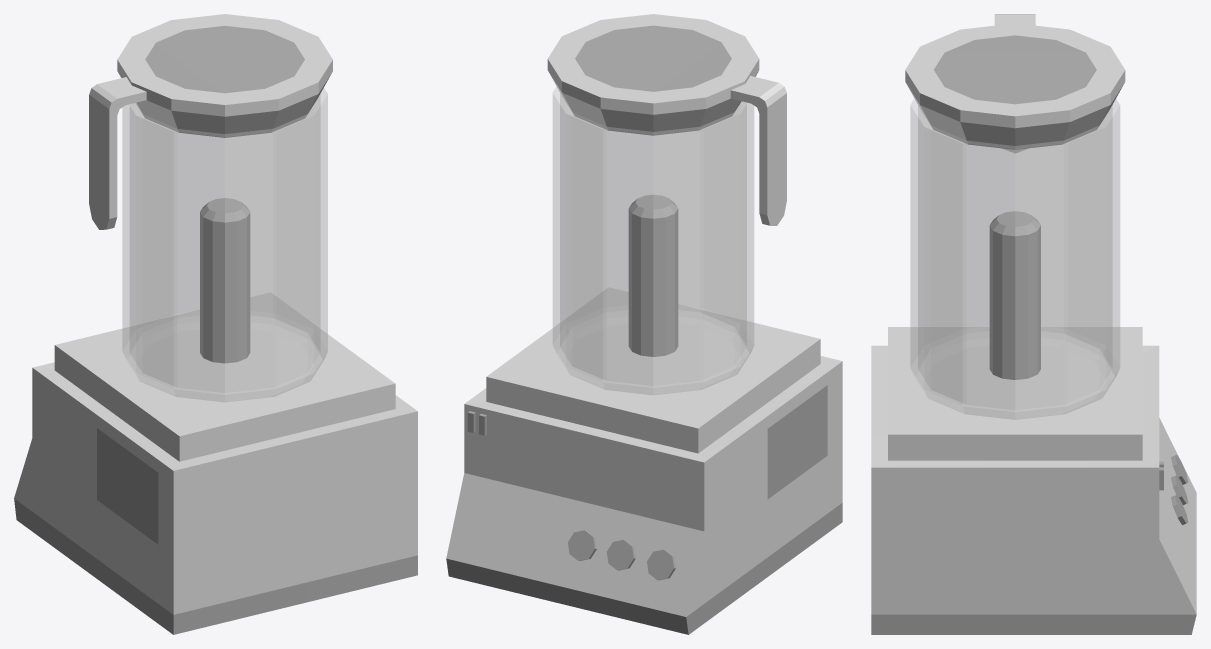
The model's file is Mixer 1.fbx.
The picture shows the model from 3 angles, left to right: view 1: azimuth 30°, elevation 25°; view 2: azimuth 150°, elevation 25°; view 3: azimuth 270°, elevation 25°; orthographic projection. The views are drawn at different scales.
Parts seen in each view (by area): view 1: CT_MH_Mixer_White_base, CT_MH_Mixer_White_Glass; view 2: CT_MH_Mixer_White_base, CT_MH_Mixer_White_Glass; view 3: CT_MH_Mixer_White_base, CT_MH_Mixer_White_Glass.
Part boxes in pixels (x1,y1,x2,y2): CT_MH_Mixer_White_base: (14, 14, 417, 634); CT_MH_Mixer_White_Glass: (122, 88, 327, 402); CT_MH_Mixer_White_base: (446, 14, 842, 634); CT_MH_Mixer_White_Glass: (553, 86, 753, 394); CT_MH_Mixer_White_base: (871, 14, 1196, 634); CT_MH_Mixer_White_Glass: (910, 99, 1119, 419).
Bounding box in the file's own units: 22.99 × 43.73 × 25.59.
